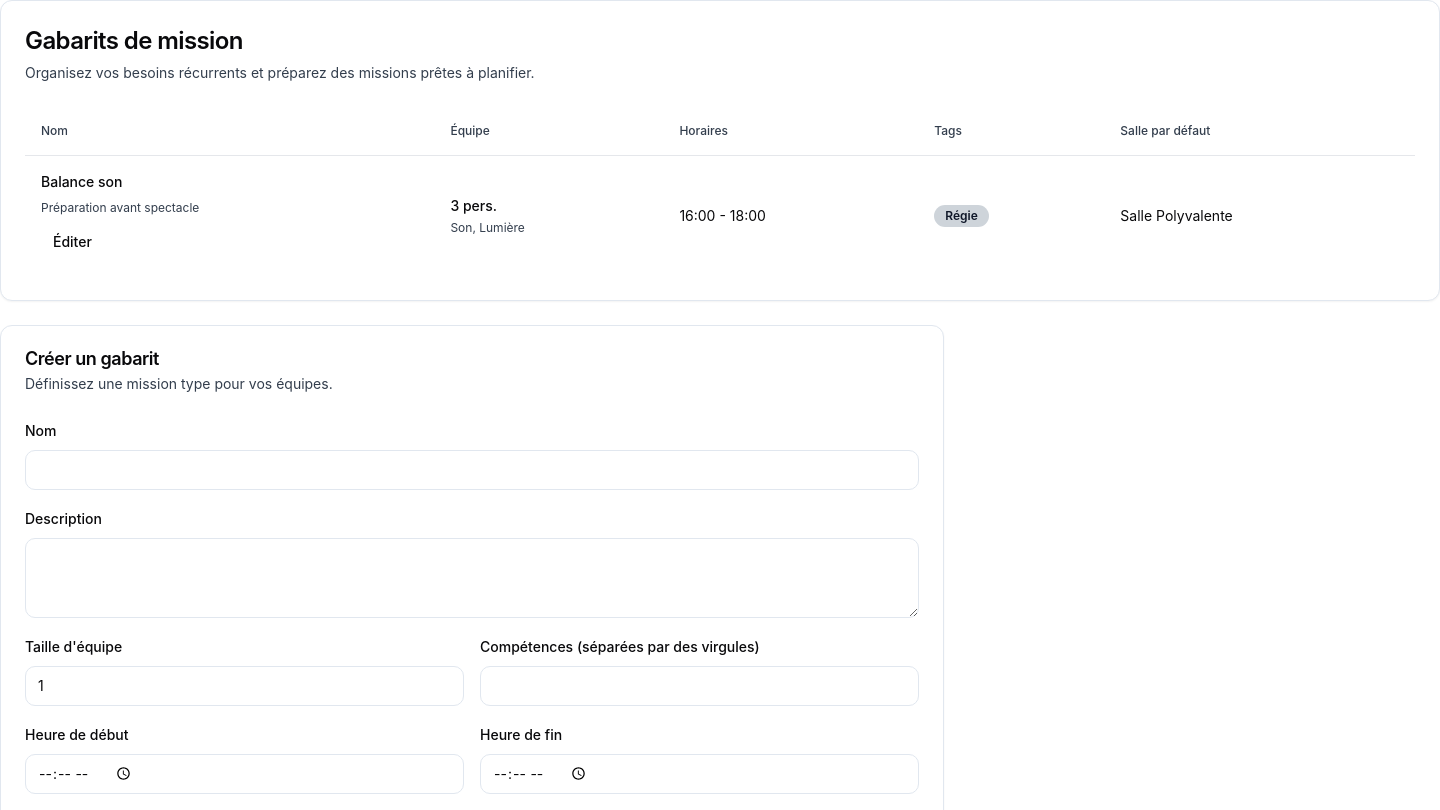
Scenario: MissionTemplatesPage › liste les gabarits existants et permet d'ouvrir l'éditeur inline
expect the text "Gabarits de mission" is shown: met, box [25, 26, 243, 55]
expect the text "Balance son" is shown: met, box [41, 172, 122, 190]
Click the button "Éditer": x=72, y=242 [41, 224, 104, 260]
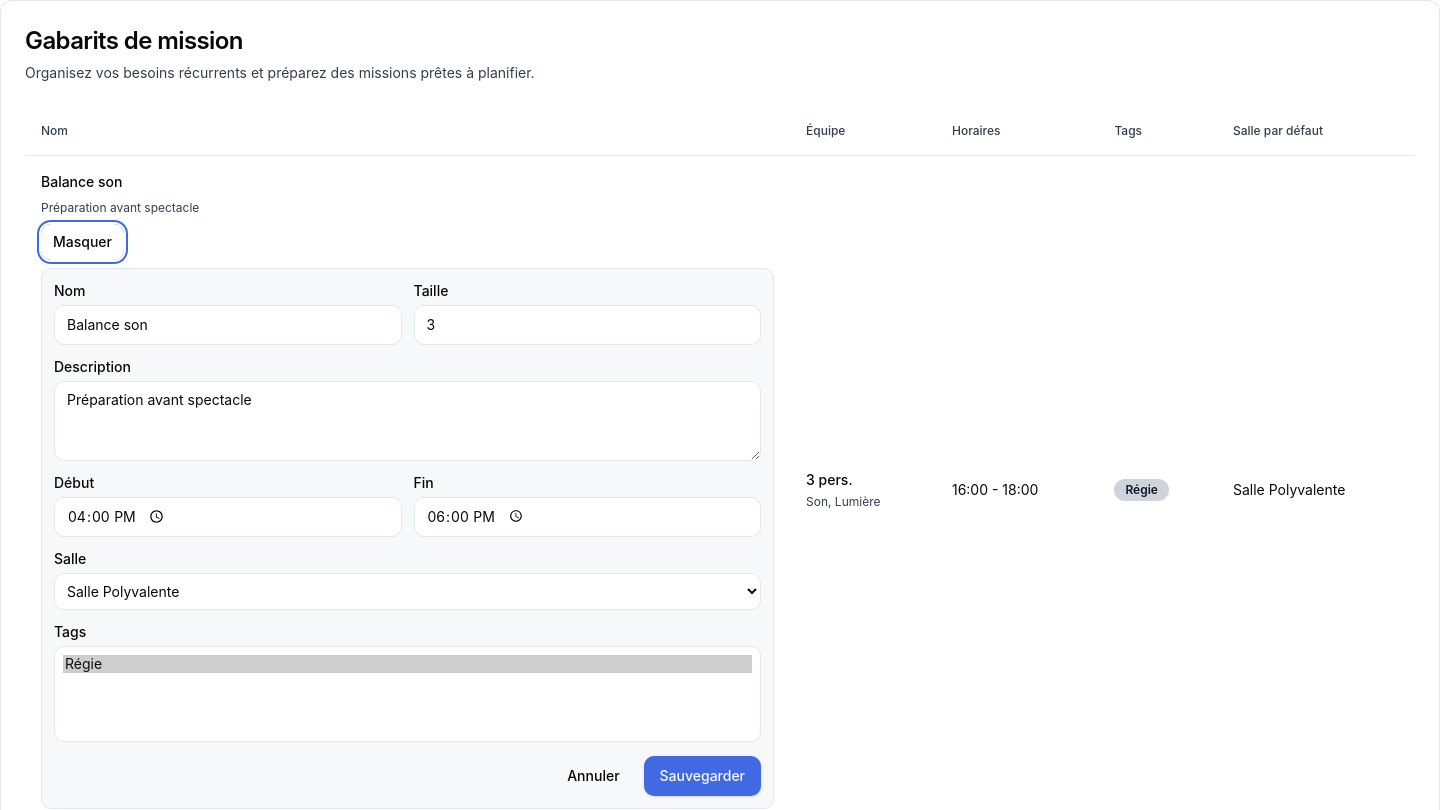
expect the field labelled "Nom" holds "Balance son": met, box [54, 304, 402, 344]
